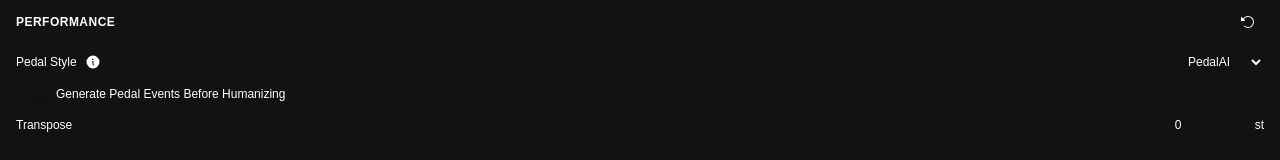
Scenario: PerformanceCard pedal style note › shows the recommendation when the info icon is clicked
This screenshot has width=1280, height=160.
Click the button named "More information".
click(93, 62)  # box 85,54 -> 101,70
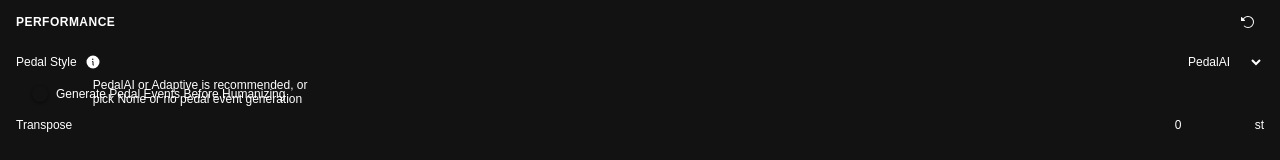
Expected: the tooltip "PedalAI or Adaptive is recommended, or pick None or no pedal event generation" is shown, 85,70 -> 325,114
